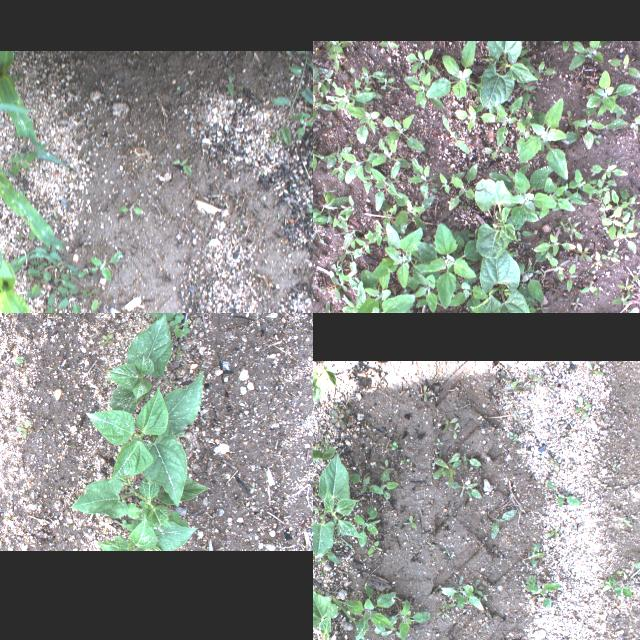crop: (85, 372, 208, 506), (66, 476, 210, 550), (0, 102, 68, 247), (0, 246, 121, 313), (110, 316, 168, 412), (313, 454, 364, 558), (469, 240, 530, 313), (0, 50, 42, 149), (479, 41, 539, 107), (474, 178, 520, 258), (313, 591, 338, 640), (313, 362, 336, 401), (313, 436, 334, 460)
weed: (410, 222, 490, 310), (518, 99, 578, 180), (371, 222, 444, 288), (488, 166, 558, 230), (269, 51, 313, 147), (27, 238, 81, 313), (424, 42, 492, 98), (506, 246, 550, 313), (345, 585, 394, 640), (324, 74, 382, 120), (570, 101, 624, 147), (587, 70, 637, 118), (440, 273, 490, 313), (386, 599, 429, 640), (404, 67, 444, 109), (382, 114, 424, 154), (394, 192, 434, 234), (332, 597, 370, 640), (355, 269, 390, 313), (338, 152, 386, 184), (370, 161, 400, 211), (542, 176, 586, 210), (442, 575, 486, 609), (494, 96, 522, 146), (449, 163, 477, 210), (523, 576, 561, 610), (403, 273, 435, 313), (568, 40, 610, 70), (353, 294, 419, 313), (328, 280, 365, 313), (170, 315, 196, 361), (369, 138, 408, 168), (601, 563, 640, 592), (454, 106, 500, 130), (313, 191, 348, 221), (354, 507, 380, 547), (405, 49, 439, 79), (442, 115, 468, 154), (431, 452, 459, 488), (544, 479, 580, 507), (334, 252, 360, 290), (532, 234, 576, 256), (89, 252, 121, 282), (406, 158, 429, 198), (619, 184, 640, 227), (572, 167, 598, 201), (378, 200, 400, 236), (355, 111, 379, 143), (335, 219, 359, 251), (588, 157, 626, 177), (348, 472, 384, 493), (490, 509, 516, 538), (606, 54, 640, 76), (313, 90, 336, 122), (9, 150, 37, 176), (324, 41, 348, 71), (313, 58, 333, 93), (444, 481, 482, 499), (516, 106, 530, 154), (518, 542, 546, 566), (322, 146, 350, 168), (331, 404, 354, 428), (379, 469, 397, 499), (598, 191, 614, 223), (10, 419, 32, 441), (532, 60, 556, 80), (514, 48, 534, 72), (622, 218, 636, 252), (572, 394, 590, 420), (118, 203, 142, 221), (586, 173, 616, 187), (482, 146, 512, 160), (452, 454, 481, 468), (80, 290, 98, 312), (364, 226, 386, 244), (548, 258, 564, 282), (613, 213, 629, 237), (362, 67, 386, 83), (171, 157, 191, 176), (362, 160, 373, 194), (298, 112, 312, 138), (339, 194, 353, 220), (564, 218, 582, 238), (330, 161, 348, 181), (351, 238, 369, 258), (554, 40, 586, 51), (520, 84, 536, 106), (313, 211, 338, 224), (576, 243, 592, 263), (332, 534, 352, 550), (602, 214, 614, 240), (98, 332, 115, 350), (225, 67, 235, 97), (611, 188, 621, 218), (504, 380, 534, 390), (580, 280, 598, 296), (566, 264, 576, 292), (528, 370, 542, 390), (588, 187, 608, 200), (313, 226, 326, 246), (331, 276, 347, 292), (366, 539, 382, 555), (313, 147, 324, 170), (313, 554, 327, 572), (77, 266, 97, 278), (610, 292, 630, 304), (613, 586, 633, 598), (380, 626, 400, 638), (379, 75, 396, 89), (627, 112, 640, 130), (586, 362, 602, 376), (417, 385, 431, 401), (442, 417, 456, 433), (313, 300, 330, 313), (378, 42, 398, 52), (439, 172, 448, 194), (402, 515, 416, 529), (616, 278, 632, 290), (333, 211, 345, 227), (592, 252, 602, 270), (64, 444, 82, 454), (448, 422, 459, 438), (570, 296, 582, 310), (363, 145, 377, 157), (554, 220, 568, 232), (12, 354, 26, 366), (325, 552, 339, 564), (544, 526, 558, 538), (299, 373, 313, 384), (380, 458, 394, 469), (630, 266, 640, 281), (599, 254, 617, 262), (440, 602, 454, 612), (536, 304, 548, 313), (28, 228, 34, 245), (388, 441, 398, 451), (481, 618, 491, 628), (435, 610, 447, 618), (306, 202, 313, 214), (308, 159, 313, 175), (607, 248, 617, 256), (508, 431, 516, 441), (318, 569, 327, 577), (326, 121, 332, 129), (436, 437, 442, 445), (442, 548, 448, 556), (12, 75, 22, 79), (399, 458, 409, 462)
